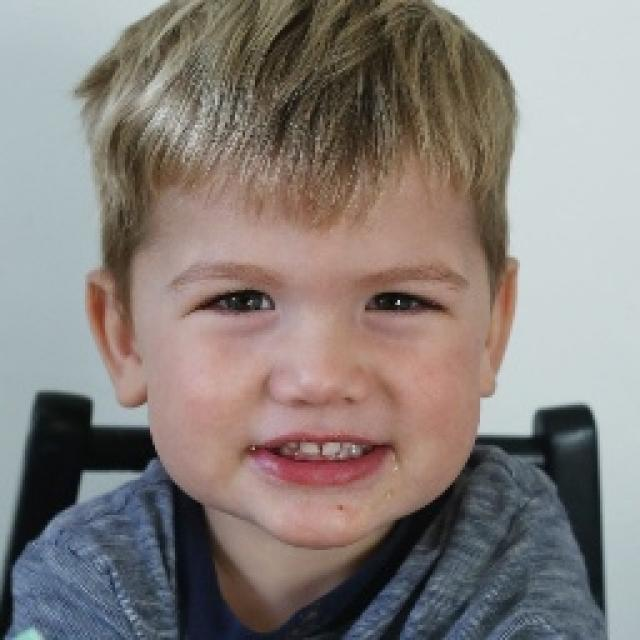earlobe: (110, 366, 150, 411), (476, 361, 501, 396)
eye: (359, 288, 441, 318), (196, 286, 280, 314)
nose: (265, 393, 372, 431)
wholeear: (84, 269, 150, 408), (476, 254, 522, 394)
